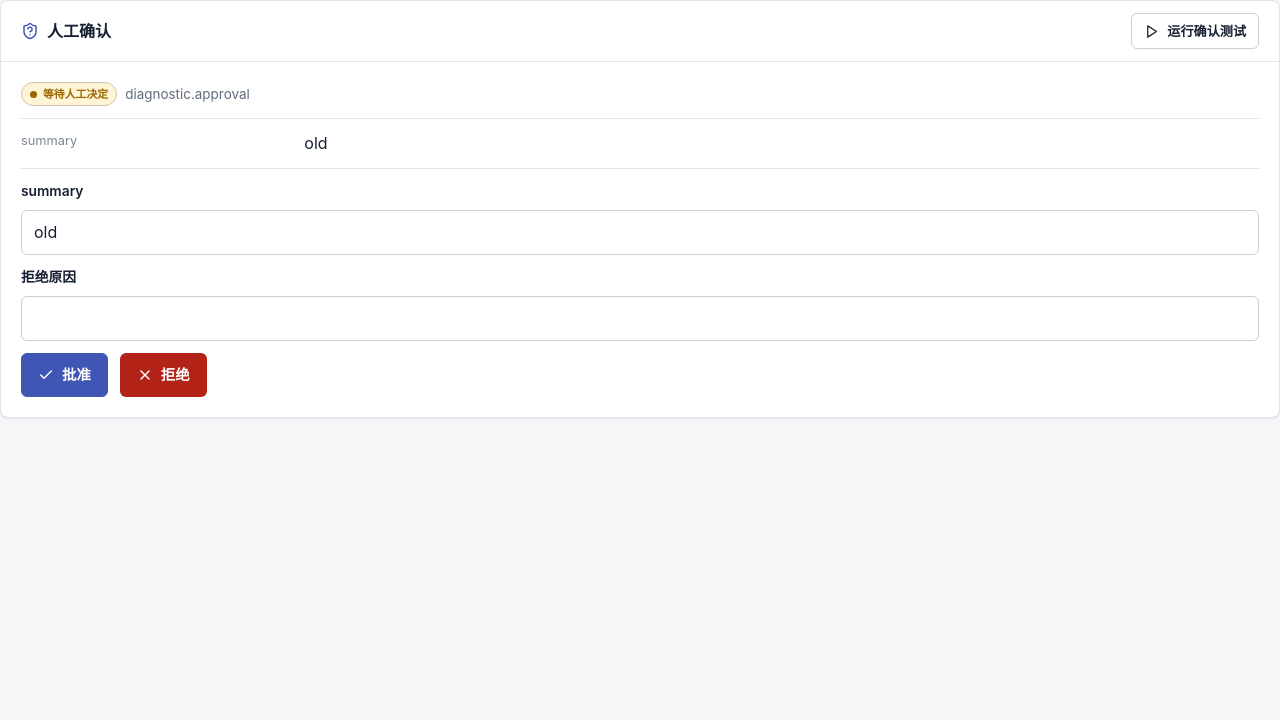
Test case: ActionCenter › waits for the action created by the diagnostic run
Check: the text "old" is shown, box [304,133,328,153]
Click the button "运行确认测试" at (1195, 31), box [1131,13,1259,49]
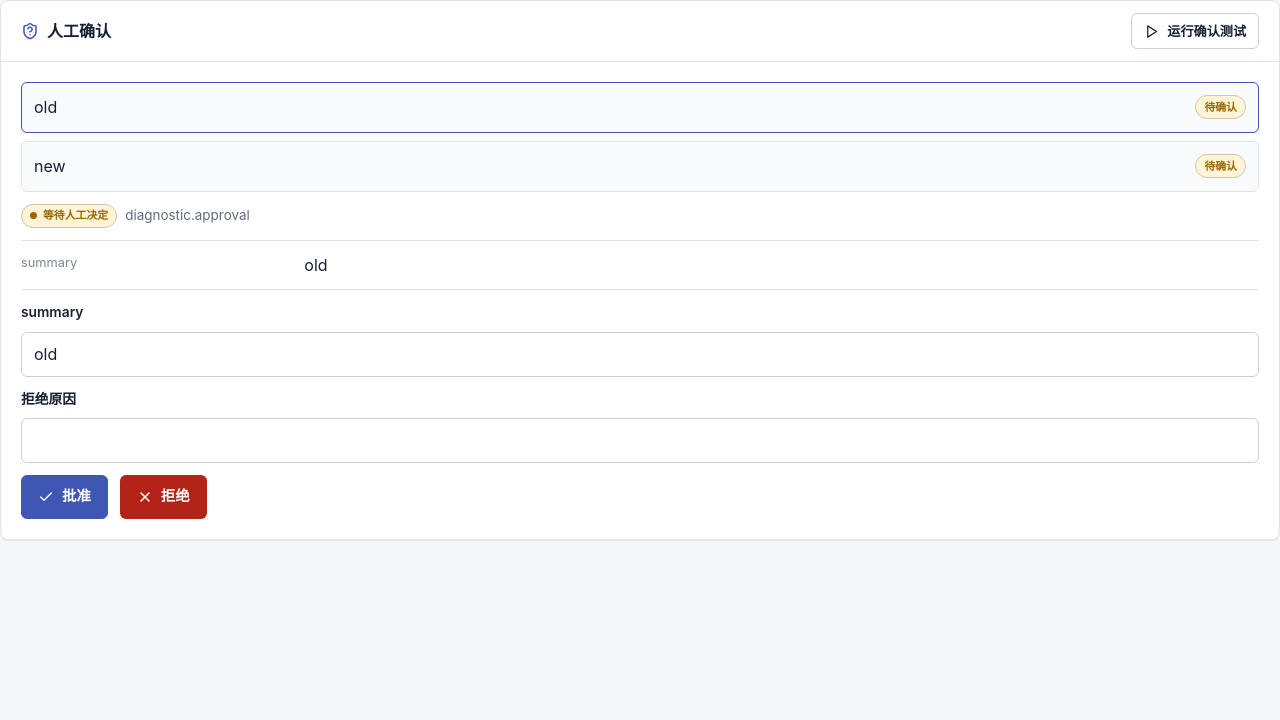
Check: the text "new" is shown, box [34,154,66,179]
